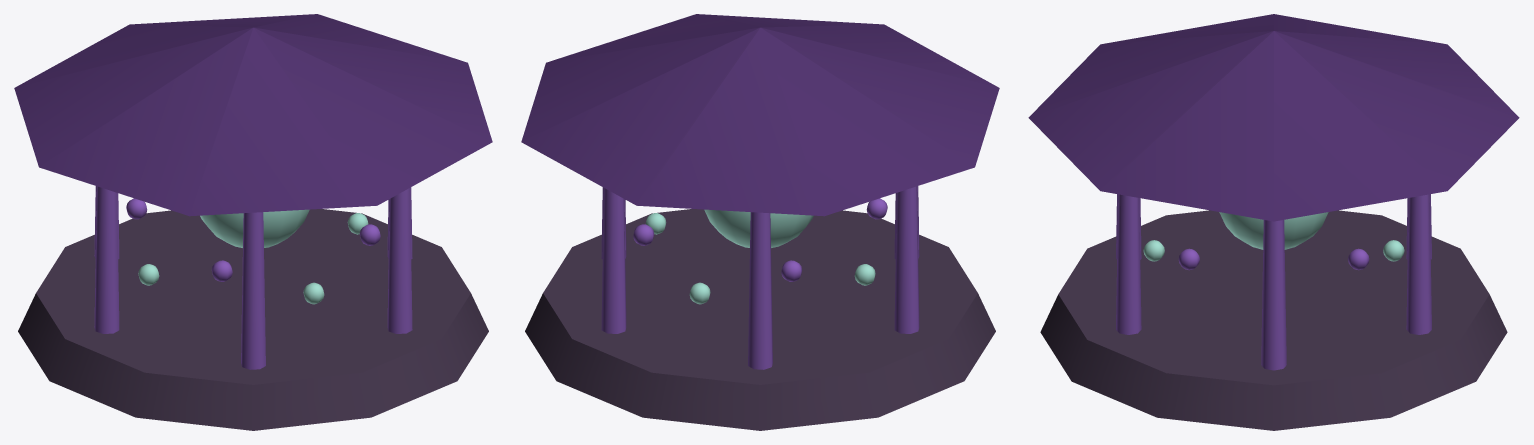
The model's file is glow_pavilion.glb.
The picture shows the model from 3 angles, left to right: view 1: azimuth 30°, elevation 25°; view 2: azimuth 150°, elevation 25°; view 3: azimuth 270°, elevation 25°; orthographic projection.
Parts seen in each view (by area): view 1: roof, base, pillar_2, pillar_3, pillar_1, glow_orb; view 2: roof, base, pillar_4, pillar_3, pillar_5, glow_orb; view 3: roof, base, pillar_0, pillar_1, pillar_5, glow_orb.
Part boxes in pixels (<box>): roof: <box>14,14,492,216</box>; base: <box>18,209,488,430</box>; pillar_2: <box>241,212,265,369</box>; pillar_3: <box>94,186,119,333</box>; pillar_1: <box>387,188,412,333</box>; glow_orb: <box>200,209,309,247</box>; roof: <box>521,14,999,216</box>; base: <box>525,209,995,430</box>; pillar_4: <box>748,212,772,369</box>; pillar_3: <box>894,186,919,333</box>; pillar_5: <box>601,188,626,333</box>; glow_orb: <box>704,209,813,247</box>; roof: <box>1028,14,1519,221</box>; base: <box>1040,210,1507,430</box>; pillar_0: <box>1261,220,1286,370</box>; pillar_1: <box>1116,194,1141,334</box>; pillar_5: <box>1406,194,1431,334</box>; glow_orb: <box>1219,212,1328,249</box>.
Bounding box in the file's own units: 8.2 × 5.55 × 8.2.
